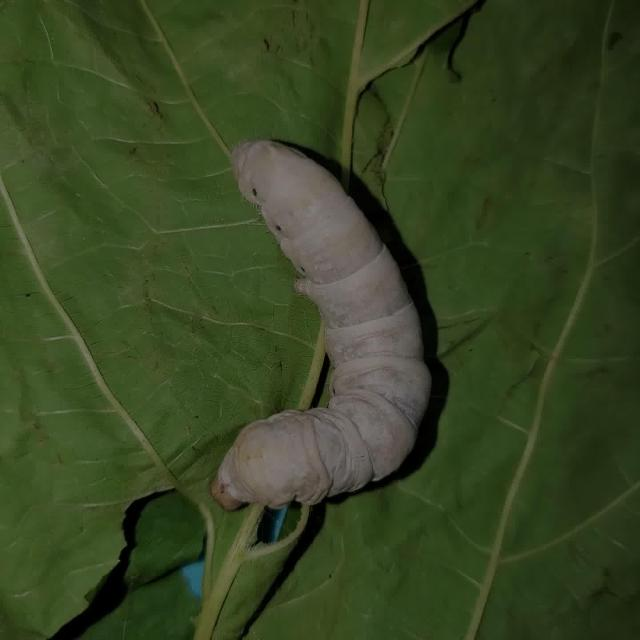Grasserie: (189, 97, 477, 560)
